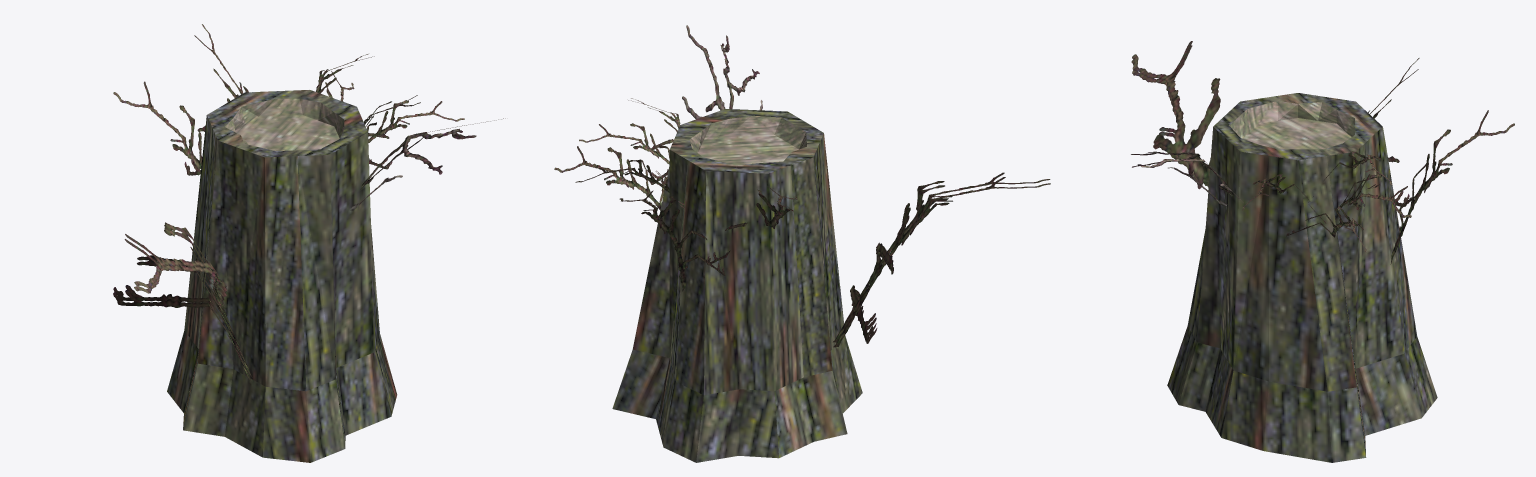
Rendered from stump.glb.
The picture shows the model from 3 angles, left to right: view 1: azimuth 30°, elevation 25°; view 2: azimuth 150°, elevation 25°; view 3: azimuth 270°, elevation 25°; orthographic projection. The views are drawn at different scales.
Parts seen in each view (by area): view 1: stump; view 2: stump; view 3: stump.
Boxes of the visible parts, x1=… form: stump: x1=113, y1=24, x2=505, y2=462; stump: x1=554, y1=25, x2=1050, y2=462; stump: x1=1131, y1=41, x2=1514, y2=462.
Bounding box in the file's own units: 1.72 × 1.12 × 1.37.
Materials: 1 (1 with a texture image).
